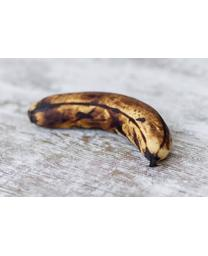banana: (27, 90, 173, 166)
